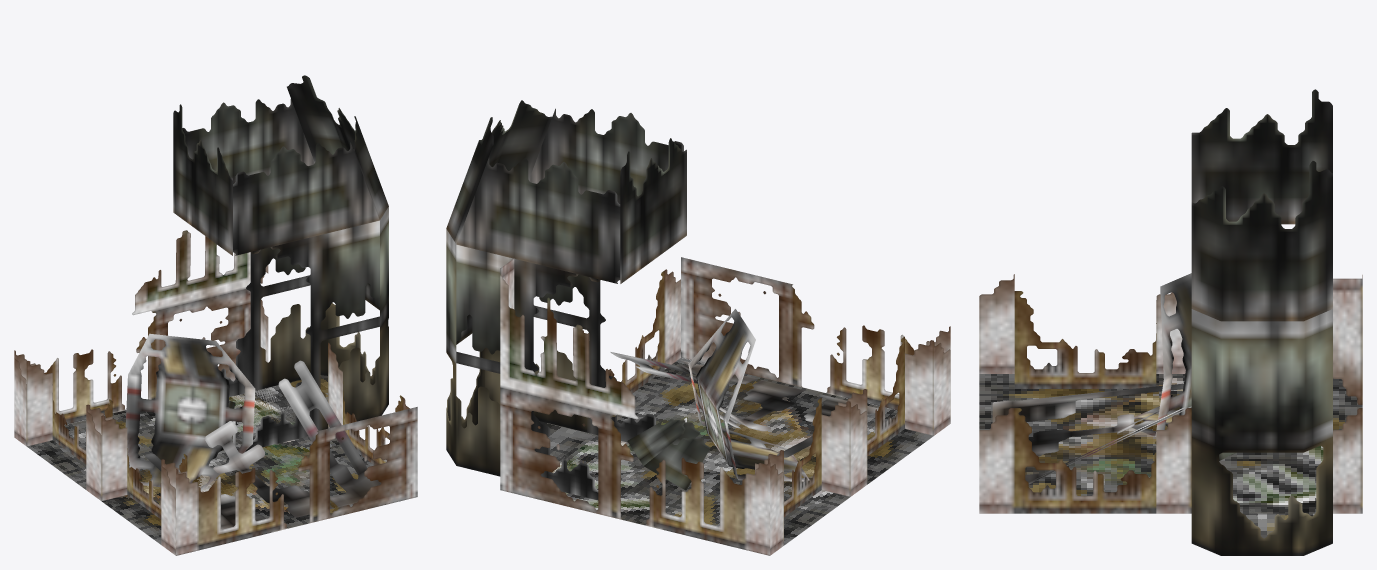
Rendered from l_sensorcontrol_dam.glb.
3 views of the same model, side by side, from view 1: azimuth 30°, elevation 25°; view 2: azimuth 150°, elevation 25°; view 3: azimuth 270°, elevation 25° (orthographic). The views are drawn at different scales.
Visible parts, largest first — view 1: L_SensorControlDam; view 2: L_SensorControlDam; view 3: L_SensorControlDam.
Part boxes in pixels (left/top/right/bottom): L_SensorControlDam: left=14, top=75, right=417, bottom=555; L_SensorControlDam: left=446, top=100, right=950, bottom=555; L_SensorControlDam: left=979, top=89, right=1362, bottom=555.
Size of the model in its own units: 14.6 by 16.69 by 13.
Materials: 3 (3 with a texture image).
